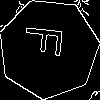F: (24, 23, 72, 59)
